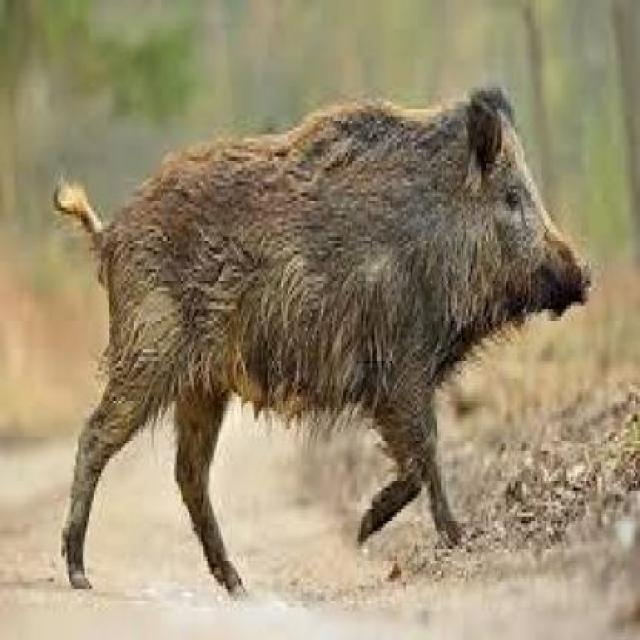Wild Boar: (49, 79, 598, 607)
